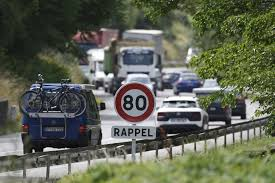Speed_limit_80km: (115, 82, 156, 123)
